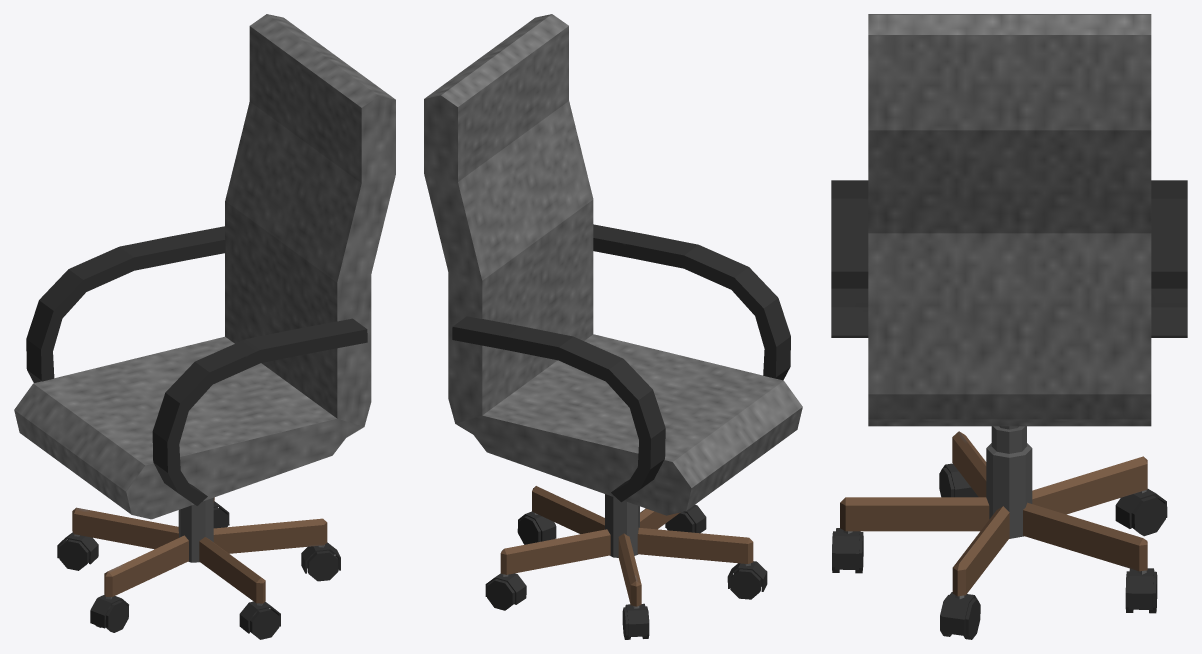
The model's file is office chair.fbx.
The picture shows the model from 3 angles, left to right: view 1: azimuth 30°, elevation 25°; view 2: azimuth 150°, elevation 25°; view 3: azimuth 270°, elevation 25°; orthographic projection. The views are drawn at different scales.
Visible parts, largest first — view 1: office chair; view 2: office chair; view 3: office chair.
Part boxes in pixels (box(x1,y1,x2,y2)): office chair: box(14, 14, 395, 639); office chair: box(424, 14, 802, 639); office chair: box(831, 14, 1187, 639).
Size of the model in its own units: 85.44 by 152 by 77.46.
1 material, 1 textured.
